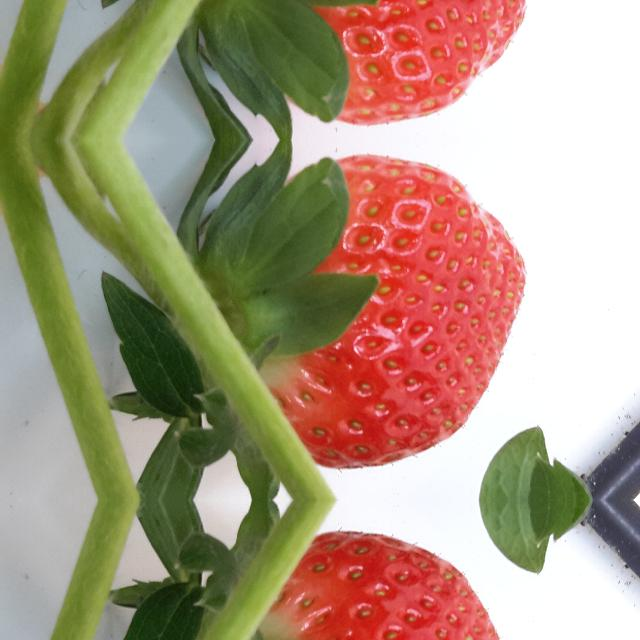Health_100: (259, 156, 525, 468), (259, 0, 525, 124), (259, 531, 525, 640)
